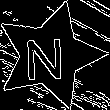N_N: (28, 29, 72, 82)
